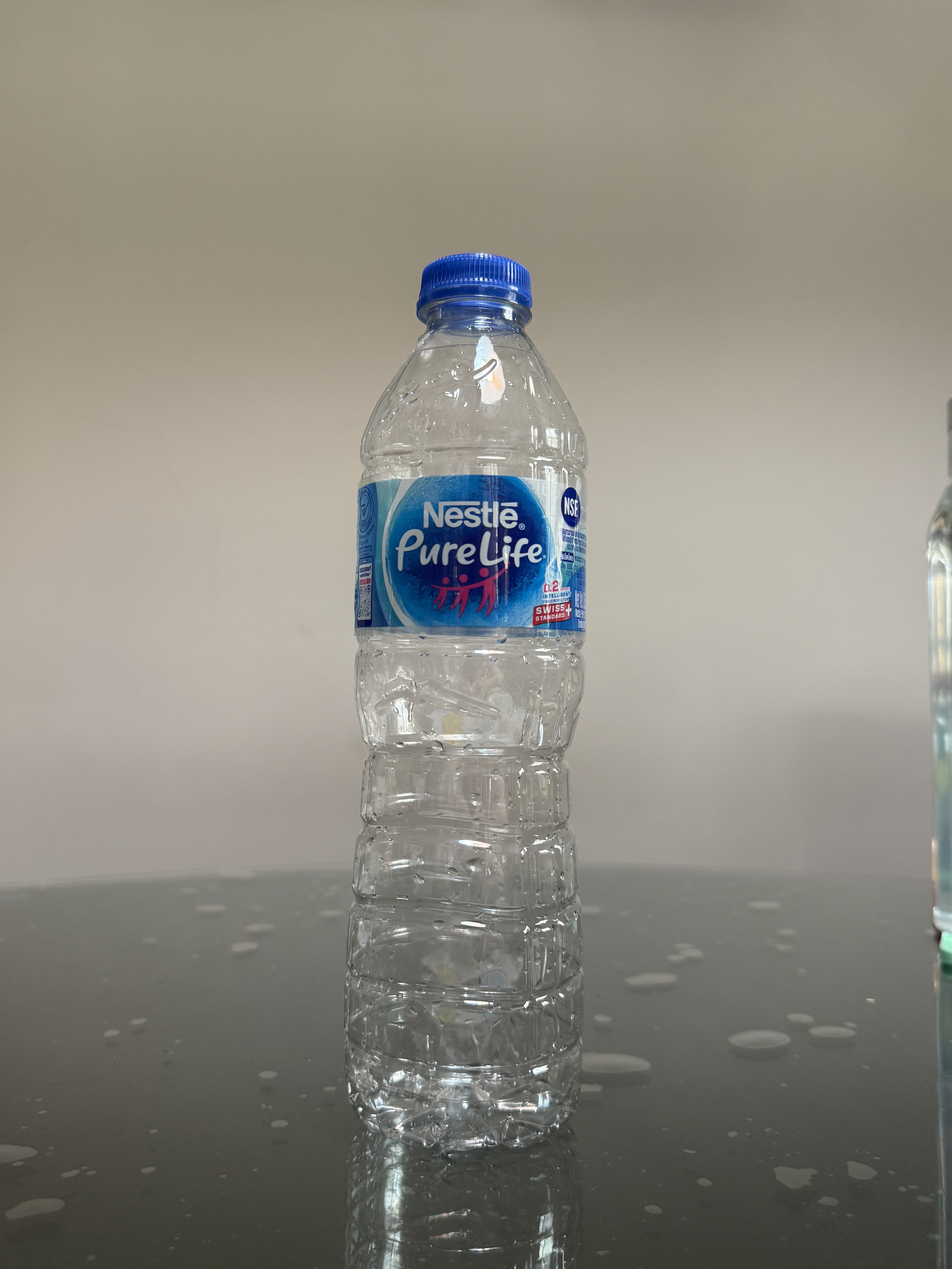closed_cap: (415, 249, 534, 324)
